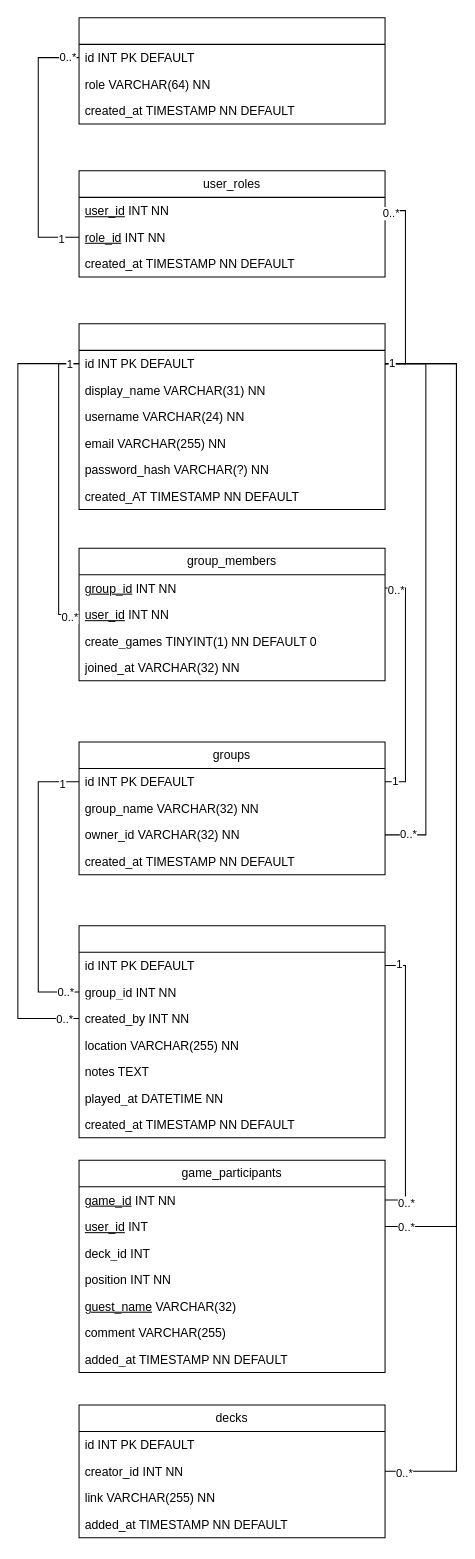
This 475x1559 diagram has some shape labels left out. The box of each missing label's shape, as (x1, y1, x2, y2) in pixels:
games: (78, 925, 385, 1138)
roles: (78, 17, 385, 124)
users: (78, 323, 385, 509)
